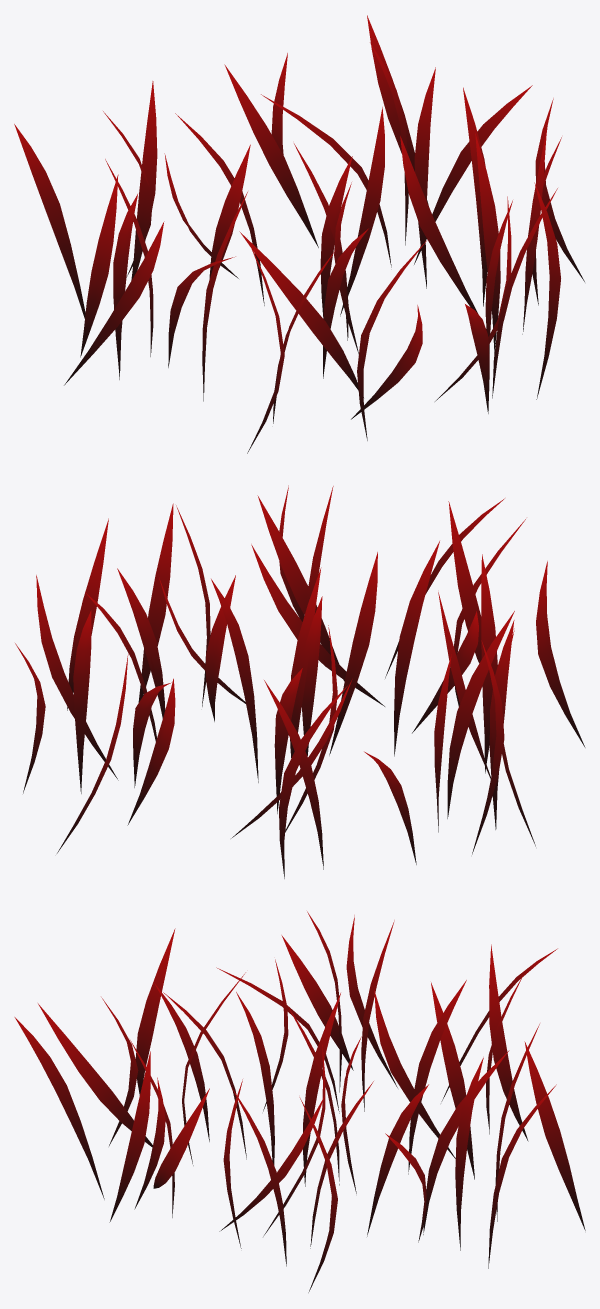
Rendered from grassmesh.fbx.
3 views of the same model, one above another, from view 1: azimuth 30°, elevation 25°; view 2: azimuth 150°, elevation 25°; view 3: azimuth 270°, elevation 25° (orthographic). The views are drawn at different scales.
Parts seen in each view (by area): view 1: Grass; view 2: Grass; view 3: Grass.
Part boxes in pixels (x1,y1,x2,y2): Grass: (14, 15, 584, 453); Grass: (15, 485, 585, 878); Grass: (14, 911, 585, 1292).
Size of the model in its own units: 2.88 by 1.19 by 3.13.
